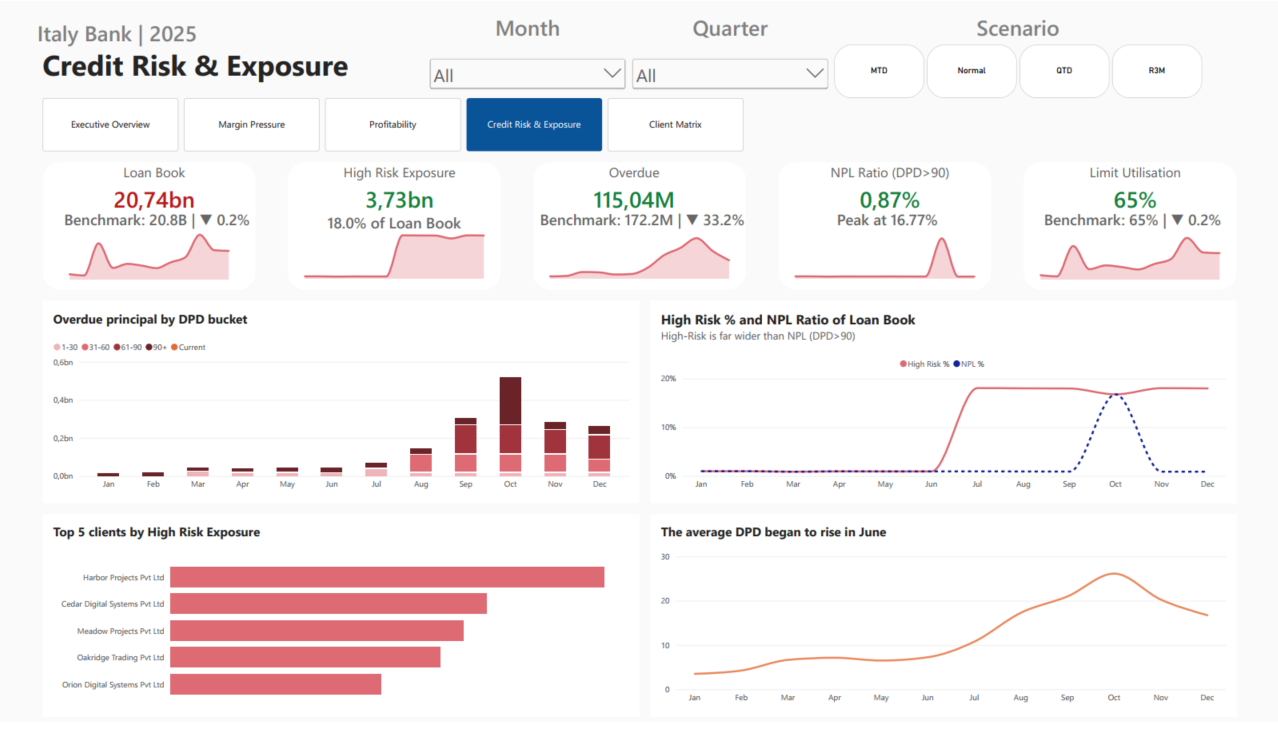

What the dashboard file says about the page in this screenshot:
{"tool":"powerbi","page":{"name":"Credit Risk & Exposure","canvas":[1920,1080],"ordinal":3},"visuals":[{"type":"textbox","box":[56,24,264,48],"z":0},{"type":"textbox","box":[64,64,480,64],"z":1000},{"type":"advancedSlicerVisual","fields":{"Values":["Calculation group.Time period"]},"box":[1232,64,592,80],"z":2000},{"type":"textbox","box":[1424,16,208,48],"z":3000},{"type":"shape","box":[64,448,896,304],"z":4000},{"type":"shape","box":[64,240,320,192],"z":5000},{"type":"shape","box":[432,240,320,192],"z":6000},{"type":"shape","box":[800,240,320,192],"z":7000},{"type":"shape","box":[1168,240,320,192],"z":8000},{"type":"shape","box":[1536,240,320,192],"z":9000},{"type":"shape","box":[976,448,880,304],"z":10000},{"type":"cardVisual","fields":{"Data":["Measure.Loan Book"]},"box":[96,240,272,80],"z":11000},{"type":"cardVisual","fields":{"Data":["Measure.Loan Book Benchmark display"]},"box":[80,288,312,72],"z":12000},{"type":"lineChart","fields":{"Category":["Dim_date.Month"],"Y":["Measure.Loan Book"]},"box":[80,320,288,112],"z":13000},{"type":"slicer","fields":{"Values":["Dim_date.Quarter"]},"box":[944,80,304,64],"z":14000},{"type":"textbox","box":[992,16,208,48],"z":15000},{"type":"cardVisual","fields":{"Data":["Measure.High Risk Exposure"]},"box":[464,240,272,80],"z":16000},{"type":"cardVisual","fields":{"Data":["Measure.High Risk Exposure Benchmark display"]},"box":[432,288,320,80],"z":17000},{"type":"lineChart","fields":{"Category":["Dim_date.Month"],"Y":["Measure.High-Risk %"]},"box":[432,320,320,112],"z":18000},{"type":"cardVisual","fields":{"Data":["Measure.Current Overdue Principal"]},"box":[816,240,272,80],"z":19000},{"type":"cardVisual","fields":{"Data":["Measure.Overdue Benchmark display"]},"box":[784,288,360,72],"z":20000},{"type":"lineChart","fields":{"Category":["Dim_date.Month"],"Y":["Measure.Current Overdue Principal"]},"box":[800,320,320,112],"z":21000},{"type":"cardVisual","fields":{"Data":["Measure.NPL Ratio"]},"box":[1200,240,272,80],"z":22000},{"type":"cardVisual","fields":{"Data":["Measure.NPL % Benchmark display"]},"box":[1152,288,360,72],"z":23000},{"type":"lineChart","fields":{"Category":["Dim_date.Month"],"Y":["Measure.NPL Ratio"]},"box":[1168,320,320,112],"z":24000},{"type":"cardVisual","fields":{"Data":["Measure.Limit Utilisation"]},"box":[1568,240,272,80],"z":25000},{"type":"cardVisual","fields":{"Data":["Measure.Limit Utilisation Benchmark display"]},"box":[1520,288,360,72],"z":26000},{"type":"lineChart","fields":{"Category":["Dim_date.Month"],"Y":["Measure.Limit Utilisation"]},"box":[1536,320,320,112],"z":27000},{"type":"slicer","fields":{"Values":["Dim_date.Month"]},"box":[640,80,304,64],"z":28000},{"type":"textbox","box":[688,16,208,48],"z":29000},{"type":"shape","box":[64,768,896,304],"z":30000},{"type":"shape","box":[976,768,880,304],"z":31000},{"type":"columnChart","title":"Overdue principal by DPD bucket","fields":{"Category":["Dim_date.Month"],"Series":["Fact_Banking_Monthly.DPD Bucket"],"Y":["Measure.Current Overdue Principal"]},"box":[64,448,896,304],"z":32000},{"type":"lineChart","title":"High Risk % and NPL Ratio of Loan Book","fields":{"Category":["Dim_date.Month"],"Y":["Measure.High Risk Exposure %","Measure.NPL Ratio"]},"box":[976,448,880,304],"z":33000},{"type":"barChart","title":"Top 5 clients by High Risk Exposure","fields":{"Y":["Measure.High Risk Exposure"],"Category":["Dim_Client.ClientName"]},"box":[64,768,896,304],"z":34000},{"type":"lineChart","title":"The average DPD began to rise in June","fields":{"Category":["Dim_date.Month"],"Y":["Measure.Average DPD"]},"box":[976,768,880,304],"z":35000},{"type":"pageNavigator","box":[64,144,1056,80],"z":36000}]}

Visuals, with their boxes in screenshot pixels (x1, y1, x2, y2), scaled from the page's 1920x1080 canvas onto the 1278x735 screenshot:
textbox: 37, 16, 213, 49
textbox: 43, 44, 362, 87
advancedSlicerVisual - Calculation group.Time period: 820, 44, 1214, 98
textbox: 948, 11, 1086, 44
shape: 43, 305, 639, 512
shape: 43, 163, 256, 294
shape: 288, 163, 501, 294
shape: 532, 163, 746, 294
shape: 777, 163, 990, 294
shape: 1022, 163, 1235, 294
shape: 650, 305, 1235, 512
cardVisual - Measure.Loan Book: 64, 163, 245, 218
cardVisual - Measure.Loan Book Benchmark display: 53, 196, 261, 245
lineChart - Dim_date.Month x Measure.Loan Book: 53, 218, 245, 294
slicer - Dim_date.Quarter: 628, 54, 831, 98
textbox: 660, 11, 799, 44
cardVisual - Measure.High Risk Exposure: 309, 163, 490, 218
cardVisual - Measure.High Risk Exposure Benchmark display: 288, 196, 501, 250
lineChart - Dim_date.Month x Measure.High-Risk %: 288, 218, 501, 294
cardVisual - Measure.Current Overdue Principal: 543, 163, 724, 218
cardVisual - Measure.Overdue Benchmark display: 522, 196, 761, 245
lineChart - Dim_date.Month x Measure.Current Overdue Principal: 532, 218, 746, 294
cardVisual - Measure.NPL Ratio: 799, 163, 980, 218
cardVisual - Measure.NPL % Benchmark display: 767, 196, 1006, 245
lineChart - Dim_date.Month x Measure.NPL Ratio: 777, 218, 990, 294
cardVisual - Measure.Limit Utilisation: 1044, 163, 1225, 218
cardVisual - Measure.Limit Utilisation Benchmark display: 1012, 196, 1251, 245
lineChart - Dim_date.Month x Measure.Limit Utilisation: 1022, 218, 1235, 294
slicer - Dim_date.Month: 426, 54, 628, 98
textbox: 458, 11, 596, 44
shape: 43, 523, 639, 730
shape: 650, 523, 1235, 730
"Overdue principal by DPD bucket" columnChart: 43, 305, 639, 512
"High Risk % and NPL Ratio of Loan Book" lineChart: 650, 305, 1235, 512
"Top 5 clients by High Risk Exposure" barChart: 43, 523, 639, 730
"The average DPD began to rise in June" lineChart: 650, 523, 1235, 730
pageNavigator: 43, 98, 746, 152
